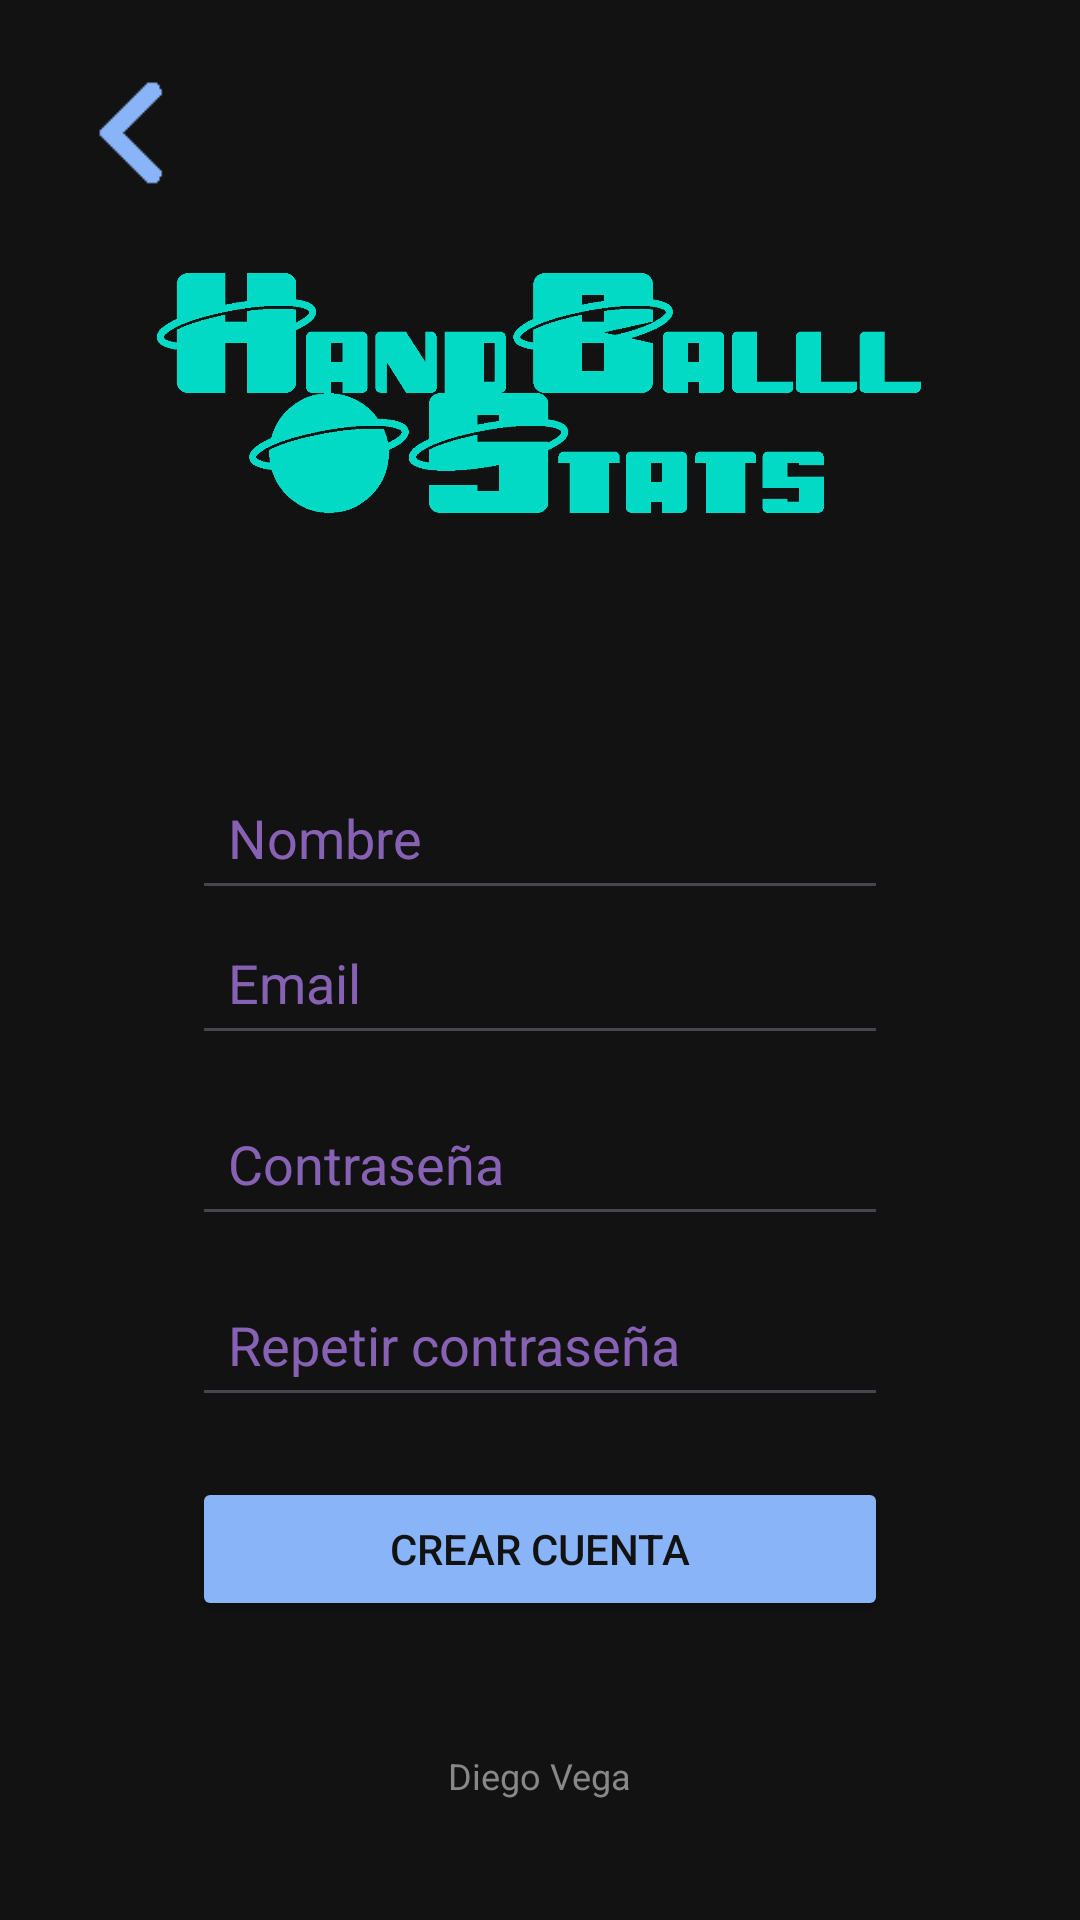

Icon bounding boxes for this 1080 x 1920 phone screenshot, format (x1,y1,x2,y2):
Atras: (99,82,163,184)
